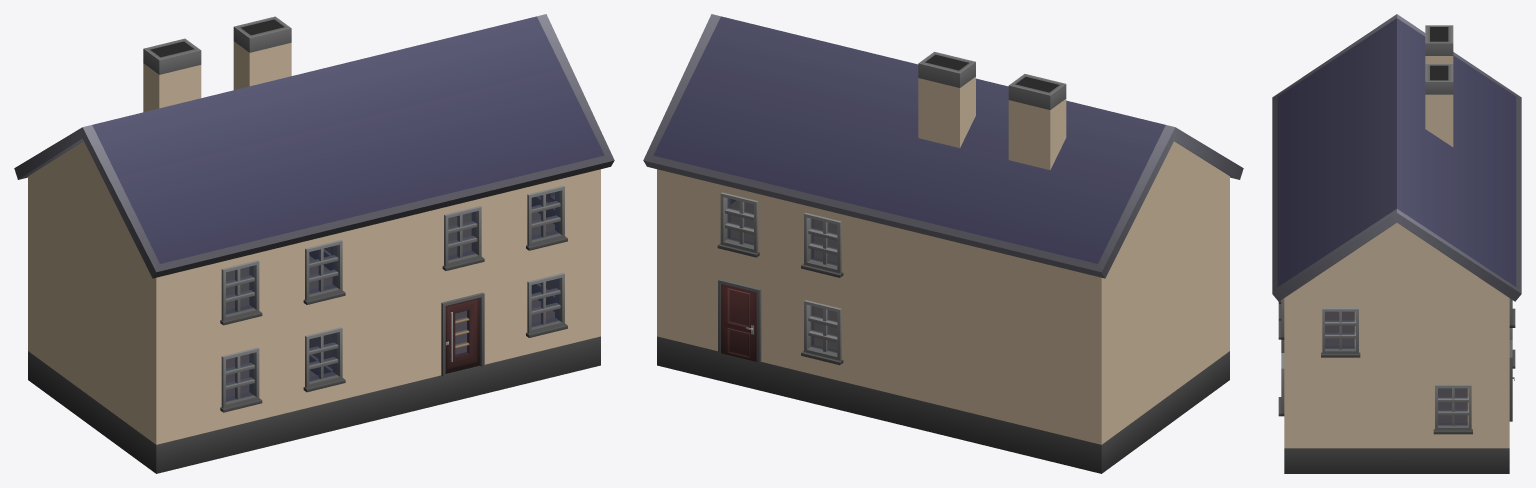
File: rumah-warga2.glb
3 views of the same model, side by side, from view 1: azimuth 30°, elevation 25°; view 2: azimuth 150°, elevation 25°; view 3: azimuth 270°, elevation 25° (orthographic). The views are drawn at different scales.
Visible parts, largest first — view 1: Object_2, Object_3; view 2: Object_2, Object_3; view 3: Object_2, Object_3.
Boxes of the visible parts, bbox=[...] form: Object_2: bbox=[14, 14, 614, 473]; Object_3: bbox=[226, 191, 559, 401]; Object_2: bbox=[643, 14, 1243, 473]; Object_3: bbox=[727, 198, 837, 352]; Object_2: bbox=[1272, 14, 1521, 473]; Object_3: bbox=[1325, 311, 1467, 425].
Size of the model in its own units: 16.69 by 11.5 by 8.86.
Materials: 2 (1 with a texture image).
